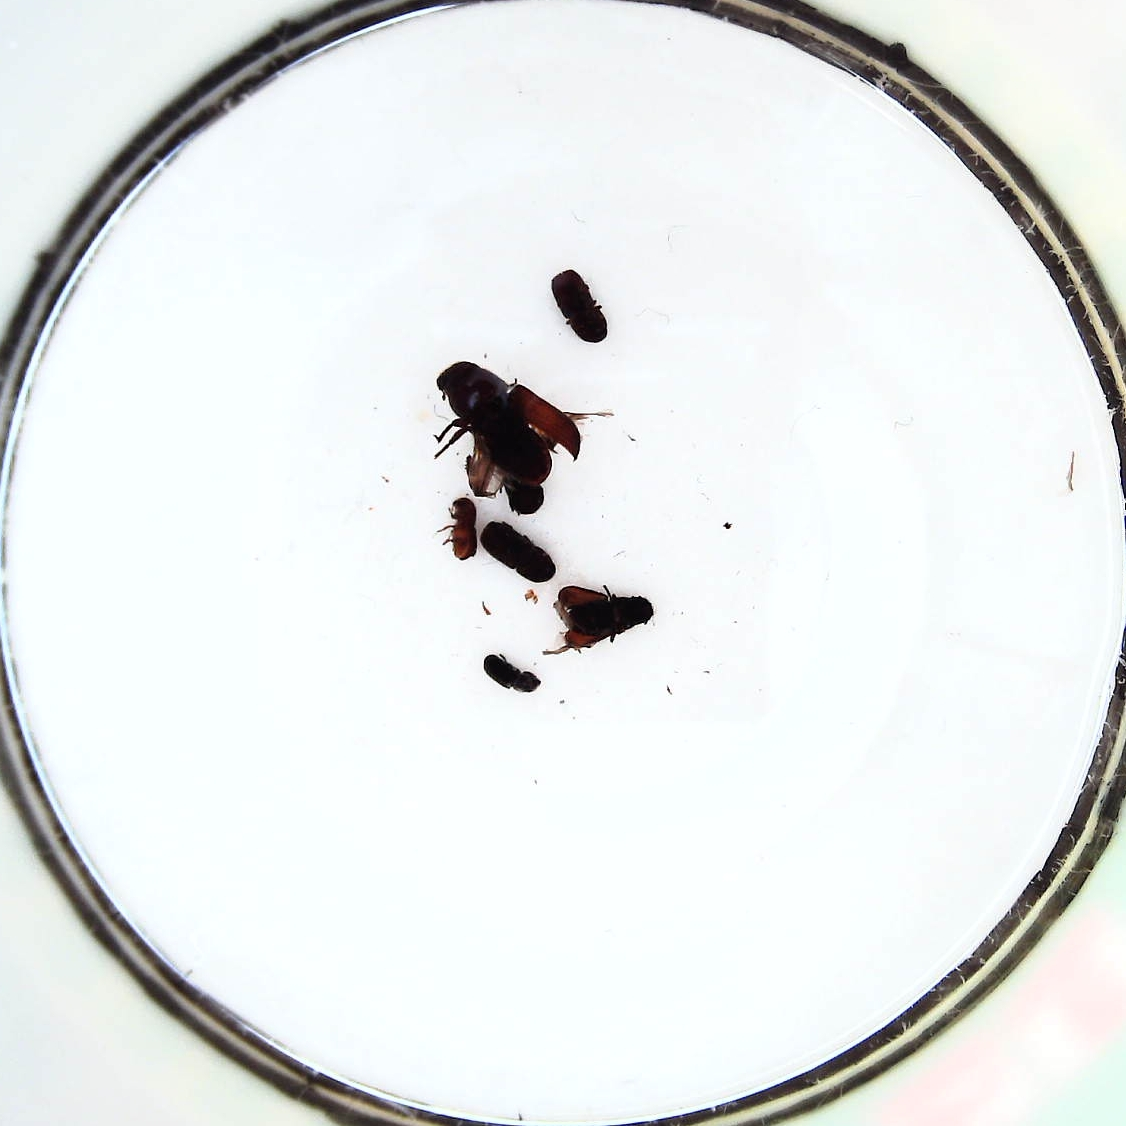Leconte: (432, 362, 608, 499), (547, 584, 652, 656)
Linnaeus: (548, 266, 610, 347), (479, 519, 557, 584)
acuminatus: (439, 497, 479, 562)
coleoptera: (481, 653, 540, 695)
